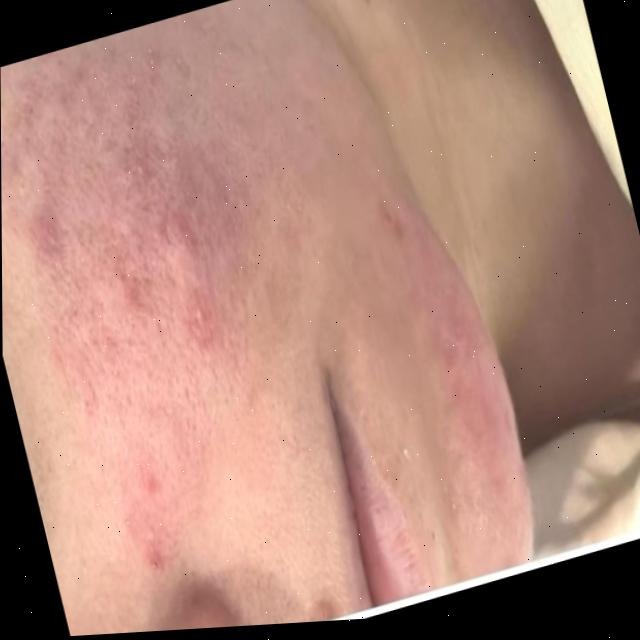Rosacea: (1, 50, 309, 575)
